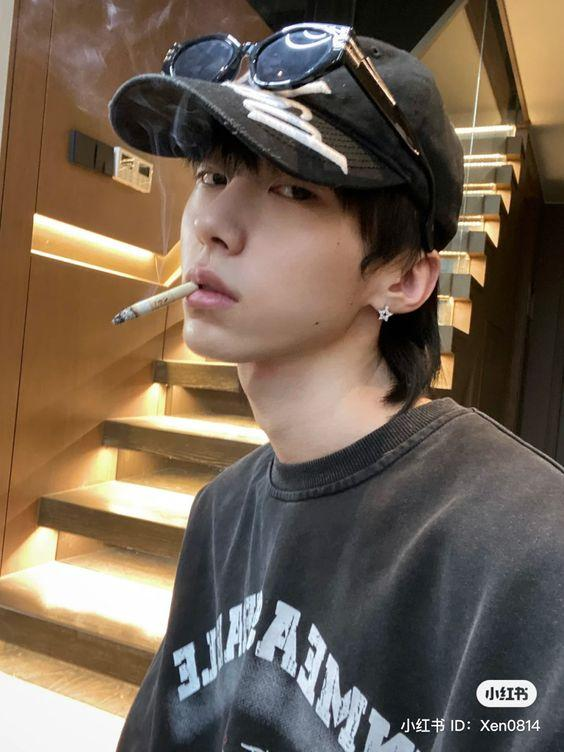cigarette: (112, 282, 198, 325)
